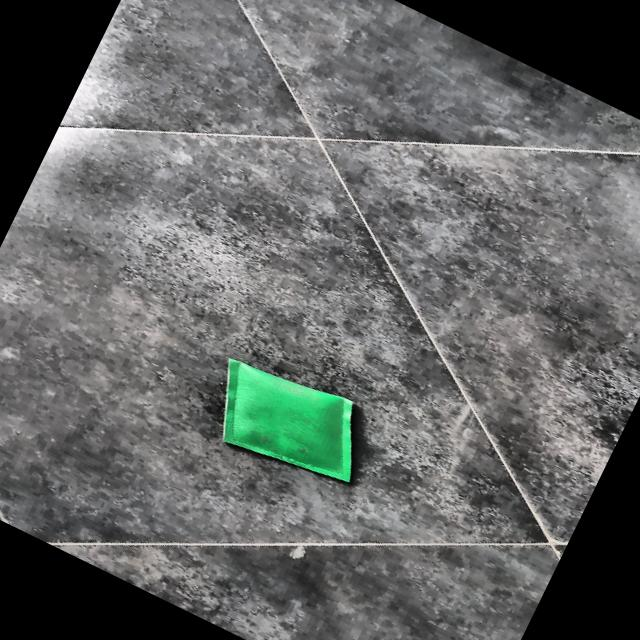payload: (223, 359, 351, 482)
